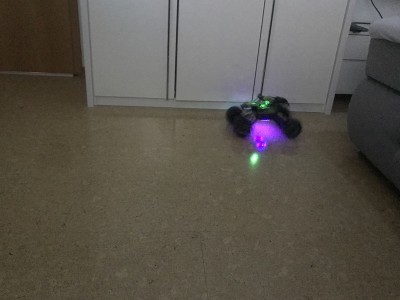remote control car: (225, 91, 304, 141)
